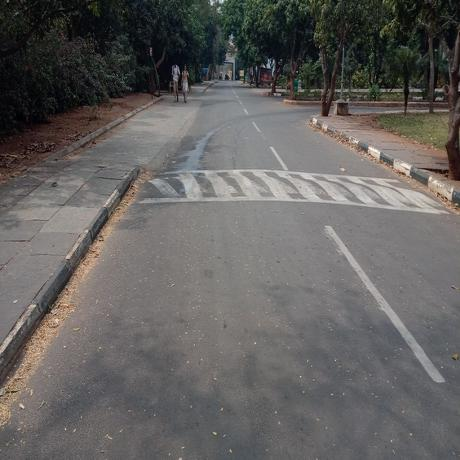Speed Bump: (132, 170, 450, 209)
